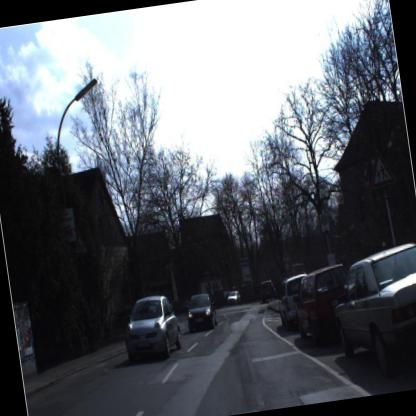danger: (280, 247, 292, 264)
